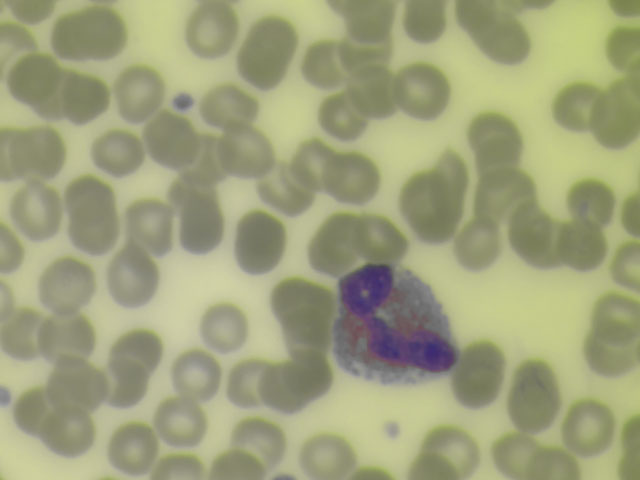Platelets: (170, 89, 196, 115), (384, 419, 402, 440), (1, 383, 13, 407)
RBC: (508, 363, 556, 424), (243, 19, 292, 78), (402, 173, 447, 234), (428, 425, 479, 475), (237, 215, 284, 267), (302, 432, 354, 479), (41, 261, 89, 309), (596, 290, 640, 342), (201, 303, 247, 352), (345, 26, 391, 75), (355, 66, 401, 115), (316, 93, 362, 142), (396, 64, 442, 113), (298, 40, 344, 89), (261, 163, 307, 212), (290, 142, 336, 191), (331, 155, 377, 204), (177, 195, 223, 244), (183, 135, 229, 184), (147, 116, 193, 165), (222, 126, 268, 175), (205, 83, 251, 132), (188, 3, 234, 52), (126, 202, 172, 251), (104, 254, 150, 303), (172, 354, 218, 403), (160, 398, 206, 447), (110, 425, 156, 474), (116, 325, 162, 374), (100, 360, 146, 409), (66, 207, 112, 256), (66, 173, 112, 222), (96, 128, 142, 177), (48, 410, 94, 459), (13, 387, 59, 436), (50, 366, 96, 415), (44, 316, 90, 365), (12, 185, 58, 234), (19, 126, 65, 175), (116, 66, 162, 115), (65, 72, 111, 121), (34, 70, 80, 119), (9, 50, 55, 99), (48, 9, 94, 58), (83, 8, 129, 57), (505, 202, 551, 251), (485, 171, 531, 220), (456, 220, 502, 269), (475, 137, 521, 186), (472, 106, 518, 155), (486, 18, 532, 67), (565, 404, 611, 453), (455, 350, 501, 399), (225, 361, 271, 410), (259, 363, 305, 412), (283, 310, 329, 359), (278, 273, 324, 322), (236, 417, 282, 466), (587, 333, 633, 382), (551, 82, 597, 131), (594, 95, 640, 144), (361, 191, 407, 240), (316, 215, 362, 264), (432, 156, 478, 205), (574, 176, 620, 225), (561, 221, 607, 270), (525, 222, 571, 271), (1, 311, 46, 360), (400, 1, 450, 45), (491, 434, 545, 474), (286, 356, 332, 401), (1, 21, 37, 76), (604, 21, 640, 72), (343, 1, 396, 35), (604, 241, 640, 291), (205, 452, 264, 480), (1, 222, 27, 278), (530, 451, 580, 480), (155, 451, 204, 479), (460, 1, 500, 33), (407, 454, 456, 480), (1, 128, 26, 178), (617, 420, 640, 472), (11, 1, 51, 25), (1, 276, 18, 321)
WBC: (330, 266, 458, 389)
